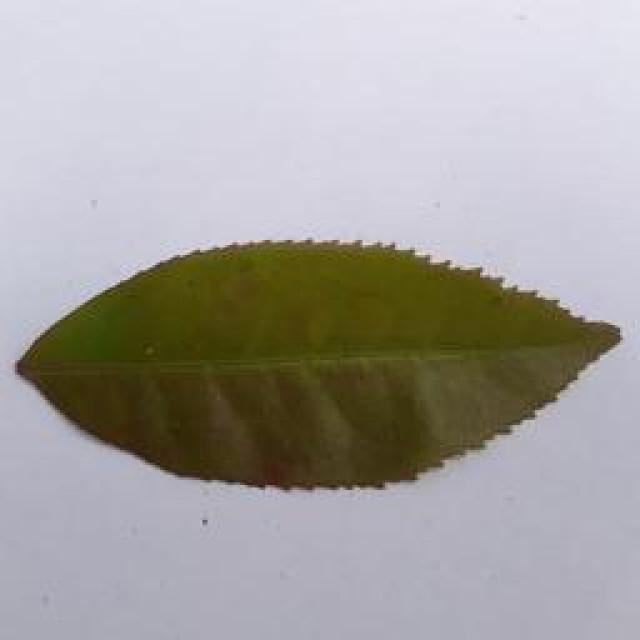Red Leaf Spot: (0, 236, 640, 494)
